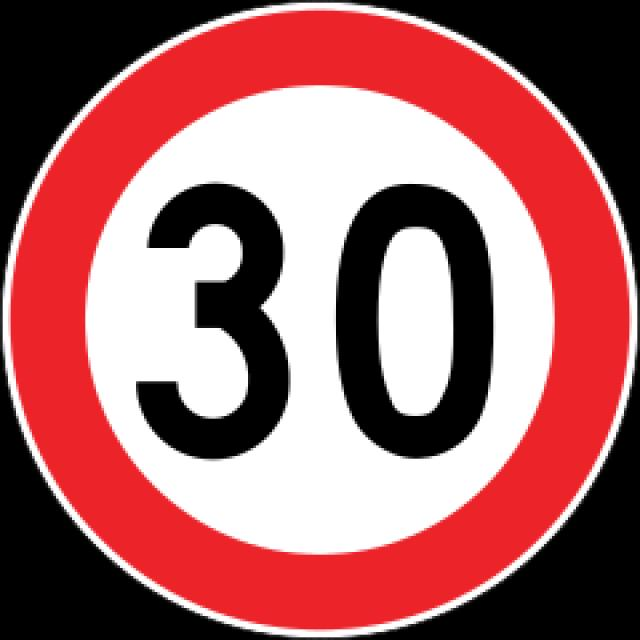Speed Limit -30-: (131, 177, 503, 465)
